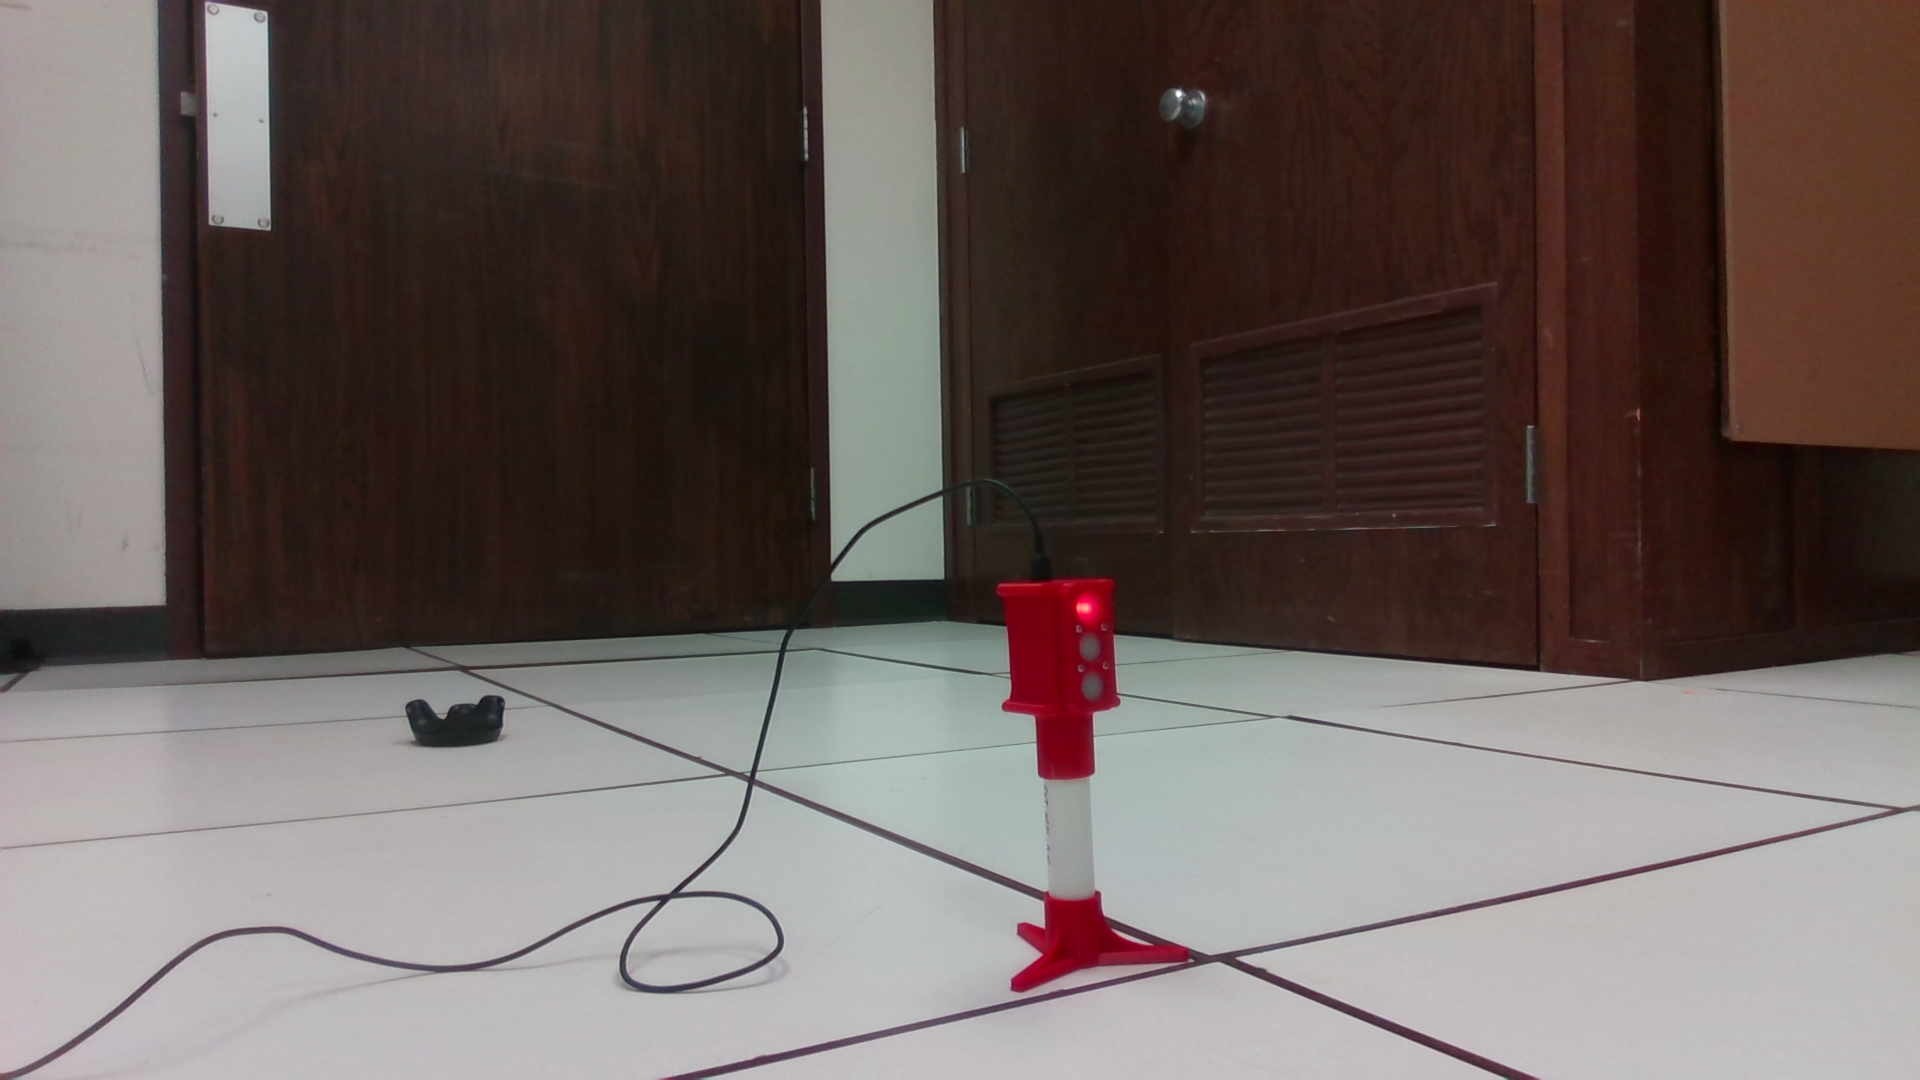stoplight: (996, 576, 1125, 779)
